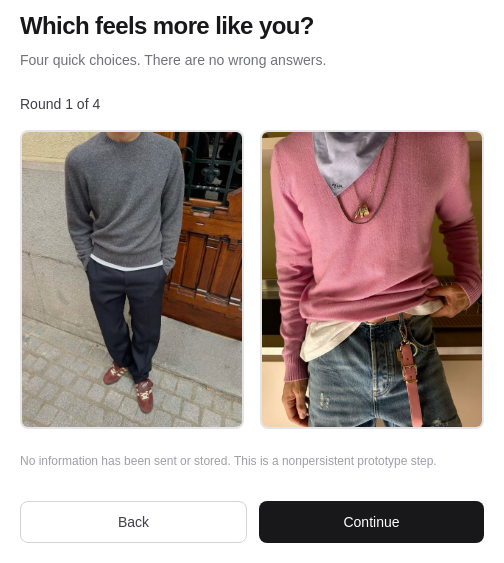
Test case: WishboneFlow — selection and validation › selecting a card and clicking Continue advances to round 2 without an error
Click the 1st button at point(132, 279), box [20,130,244,429]
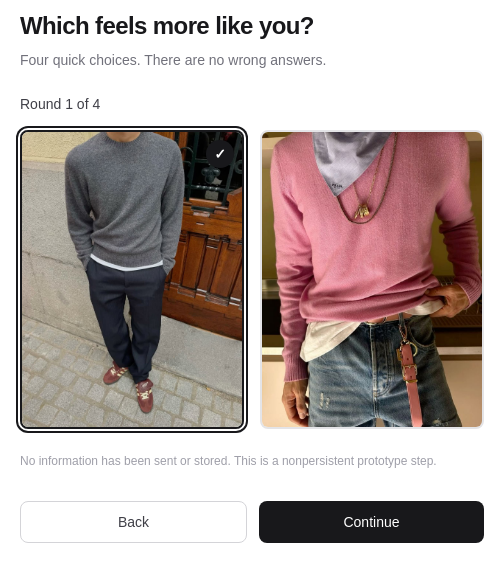
Click the button "Continue" at point(372, 522), box [259,501,484,543]
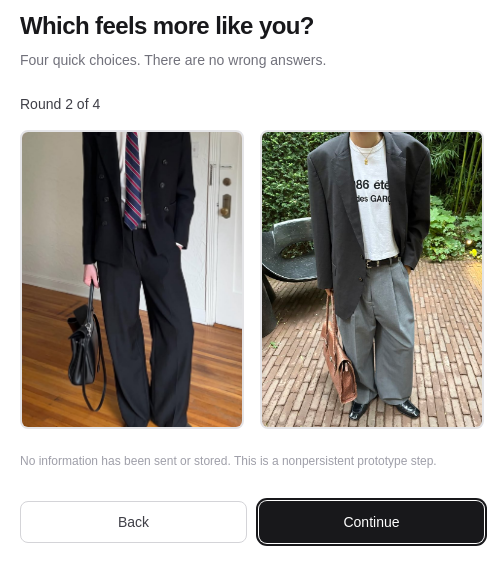
expect the text "Round 2 of 4" is shown: met, box [20,96,100,112]
